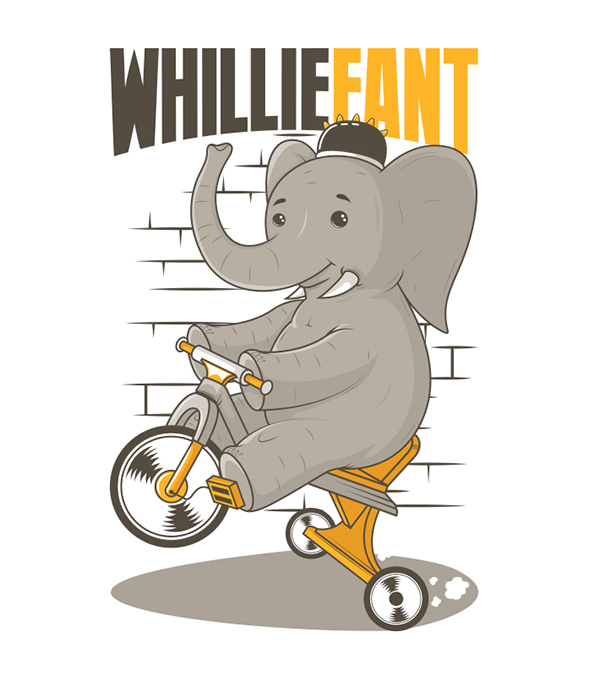bicycle: (105, 326, 447, 629)
